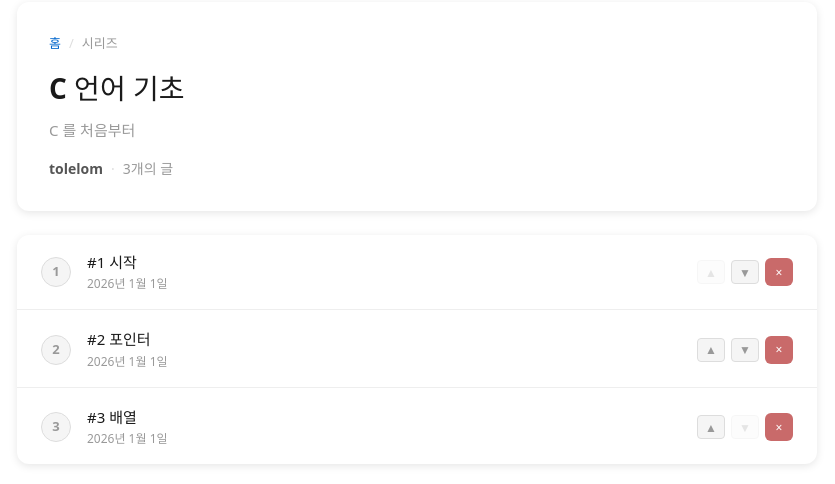
SeriesDetailPage › 작성자가 글을 빼면 다시 불러와 목록에서 사라진다
expect the heading "C 언어 기초" is shown: met, box [49, 68, 184, 106]
Click the button named "#2 포인터 제거" at (779, 350), box [765, 336, 793, 364]
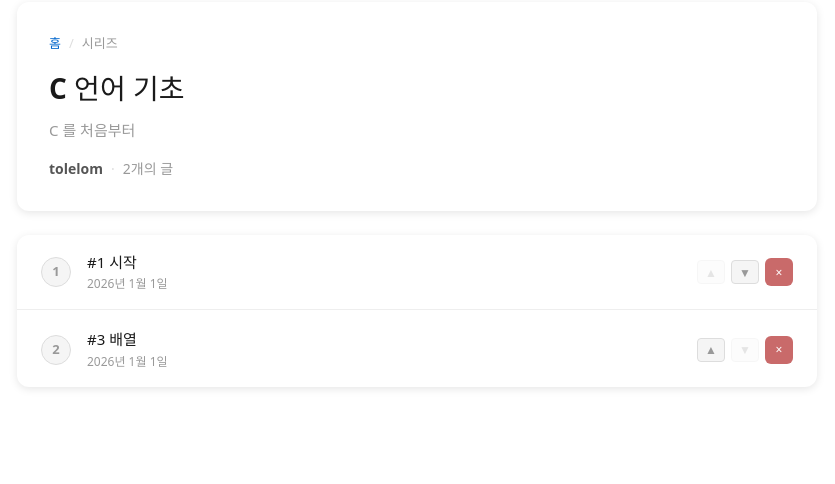
expect the link "#2 포인터" is gone: met
expect the text "2개의 글" is shown: met, box [123, 158, 173, 179]
